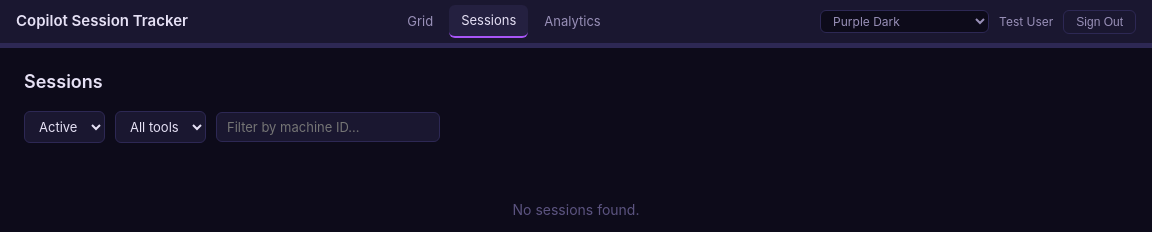
Test: App (real component) › navigation between routes › navigating from Sessions back to Grid works
Expected: the heading "Sessions" is shown, left=24, top=71, right=103, bottom=92
Click the link "Grid". click: (420, 21)
box: left=407, top=13, right=433, bottom=29
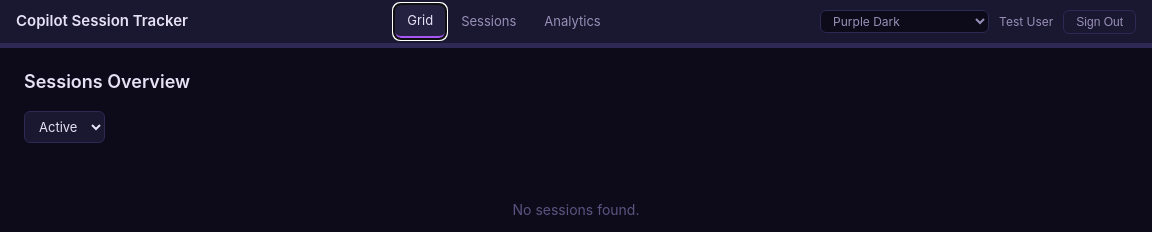
Result: the heading "Sessions Overview" is shown at left=24, top=71, right=190, bottom=92
